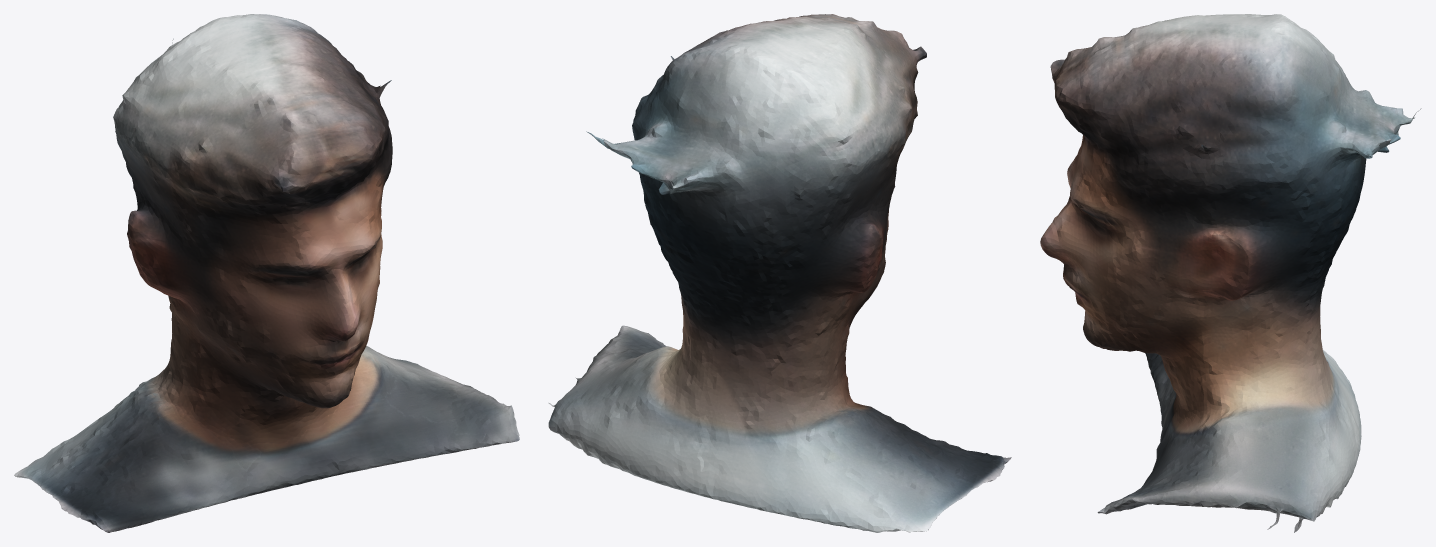
Rendered from man_head_rgba.glb.
3 views of the same model, side by side, from view 1: azimuth 30°, elevation 25°; view 2: azimuth 150°, elevation 25°; view 3: azimuth 270°, elevation 25° (orthographic). The views are drawn at different scales.
Size of the model in its own units: 0.9326 by 0.9132 by 0.75.
Materials: 1 (1 with a texture image).
